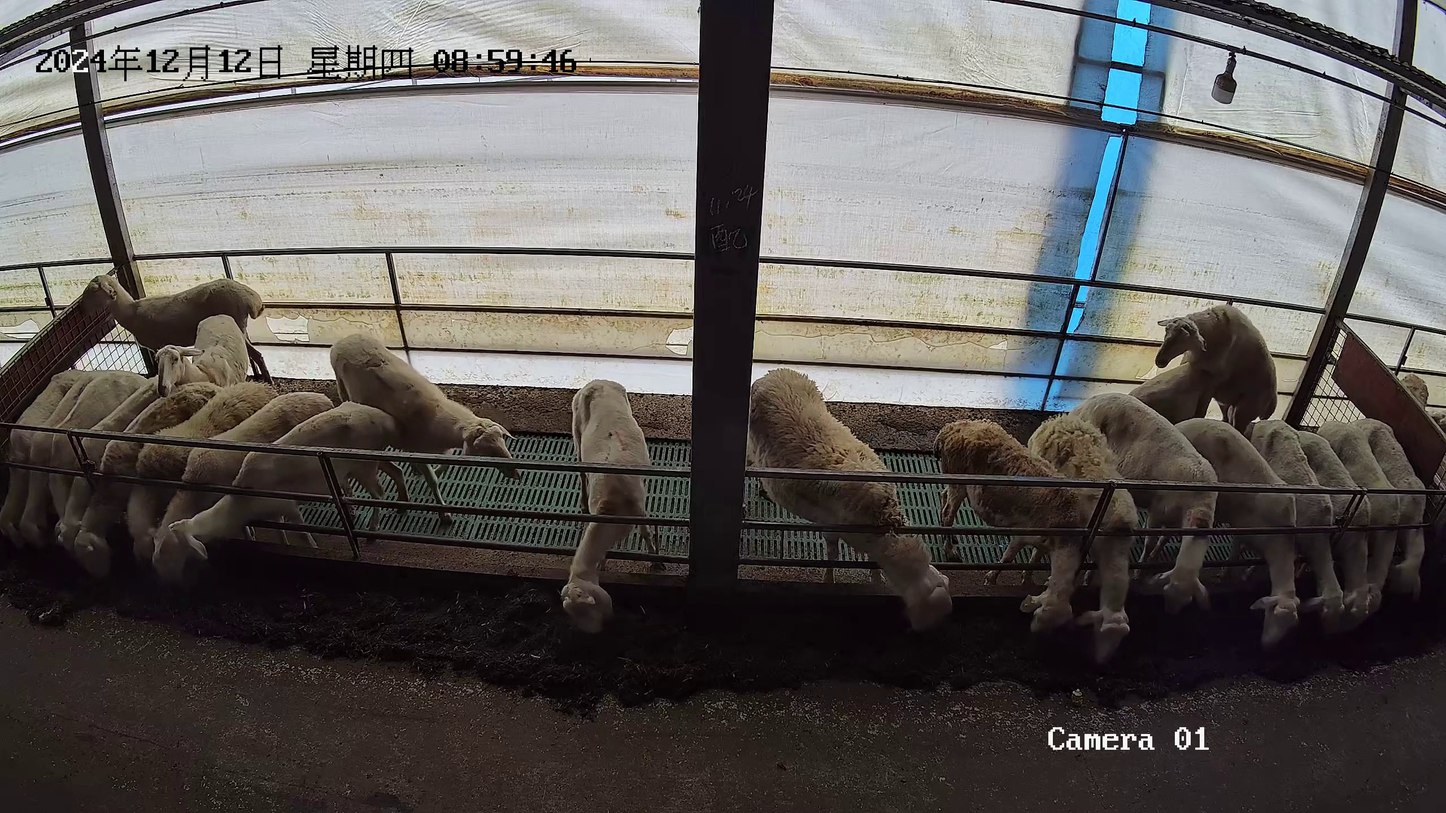Smounting: (1122, 303, 1279, 434)
mounted: (1125, 360, 1218, 425)
